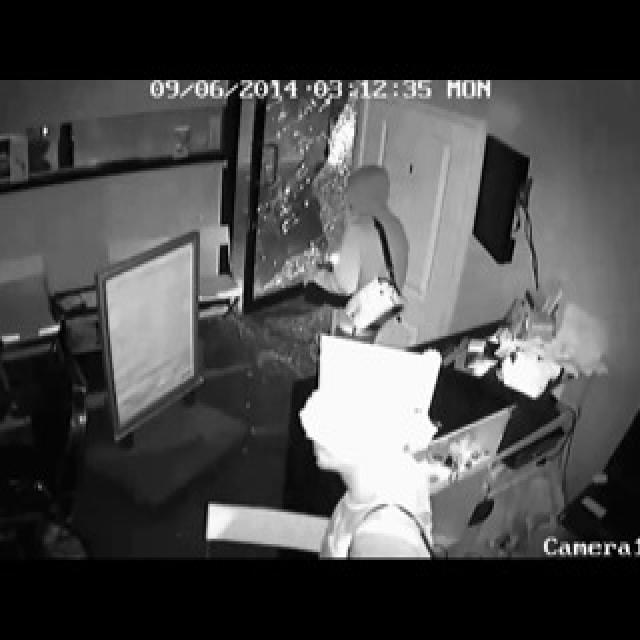thief: (321, 177, 400, 348)
